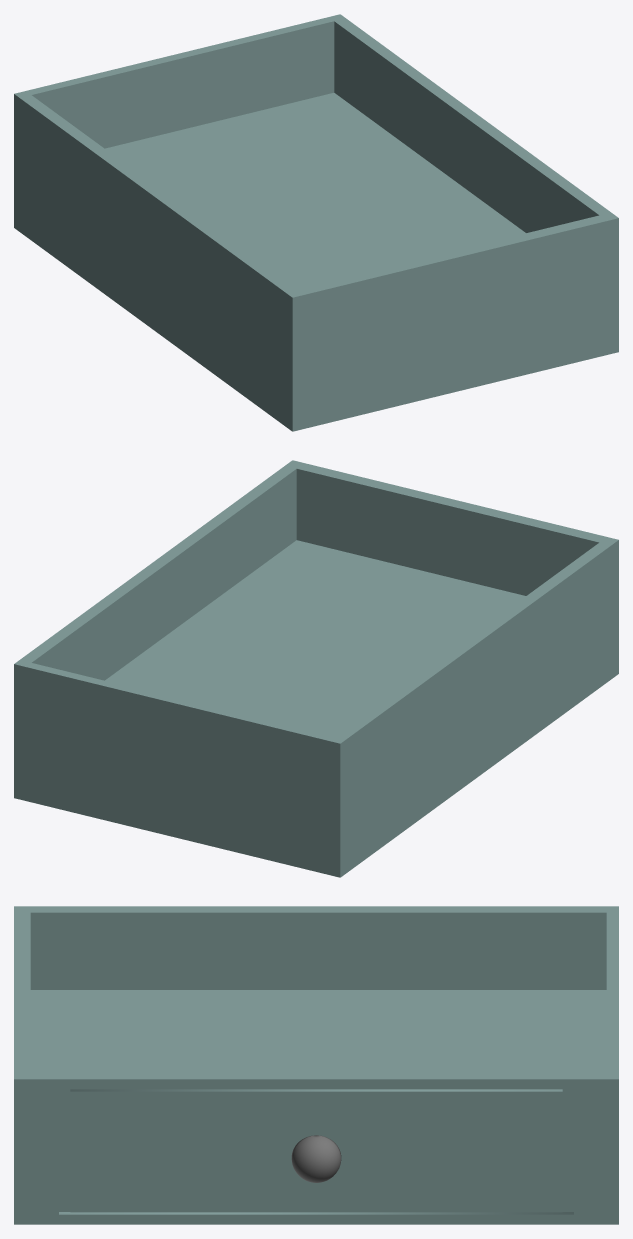
File: HallTableDrawer.fbx
3 renders of one model, top to bottom at view 1: azimuth 30°, elevation 25°; view 2: azimuth 150°, elevation 25°; view 3: azimuth 270°, elevation 25°, orthographic. The views are drawn at different scales.
Parts seen in each view (by area): view 1: Sphere; view 2: Sphere; view 3: Sphere.
Part boxes in pixels (x1,y1,x2,y2): Sphere: (14, 14, 618, 431); Sphere: (14, 460, 618, 877); Sphere: (14, 906, 618, 1224).
Bounding box in the file's own units: 35.88 × 12.85 × 48.4.
